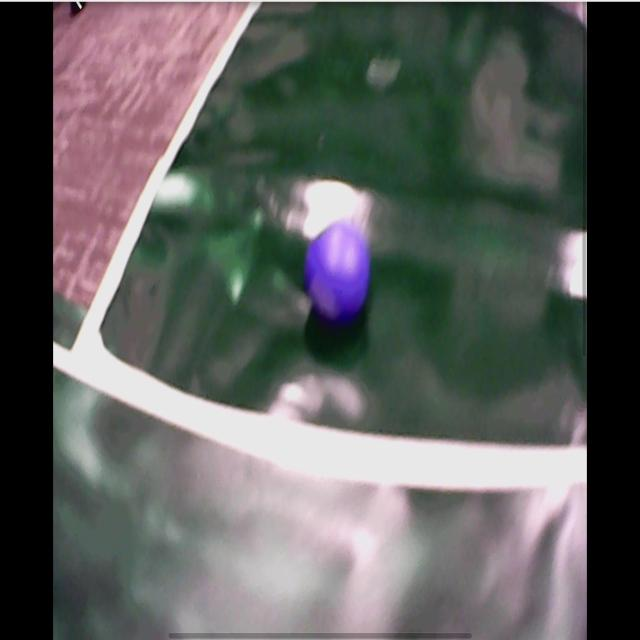ball: (308, 222, 372, 319)
